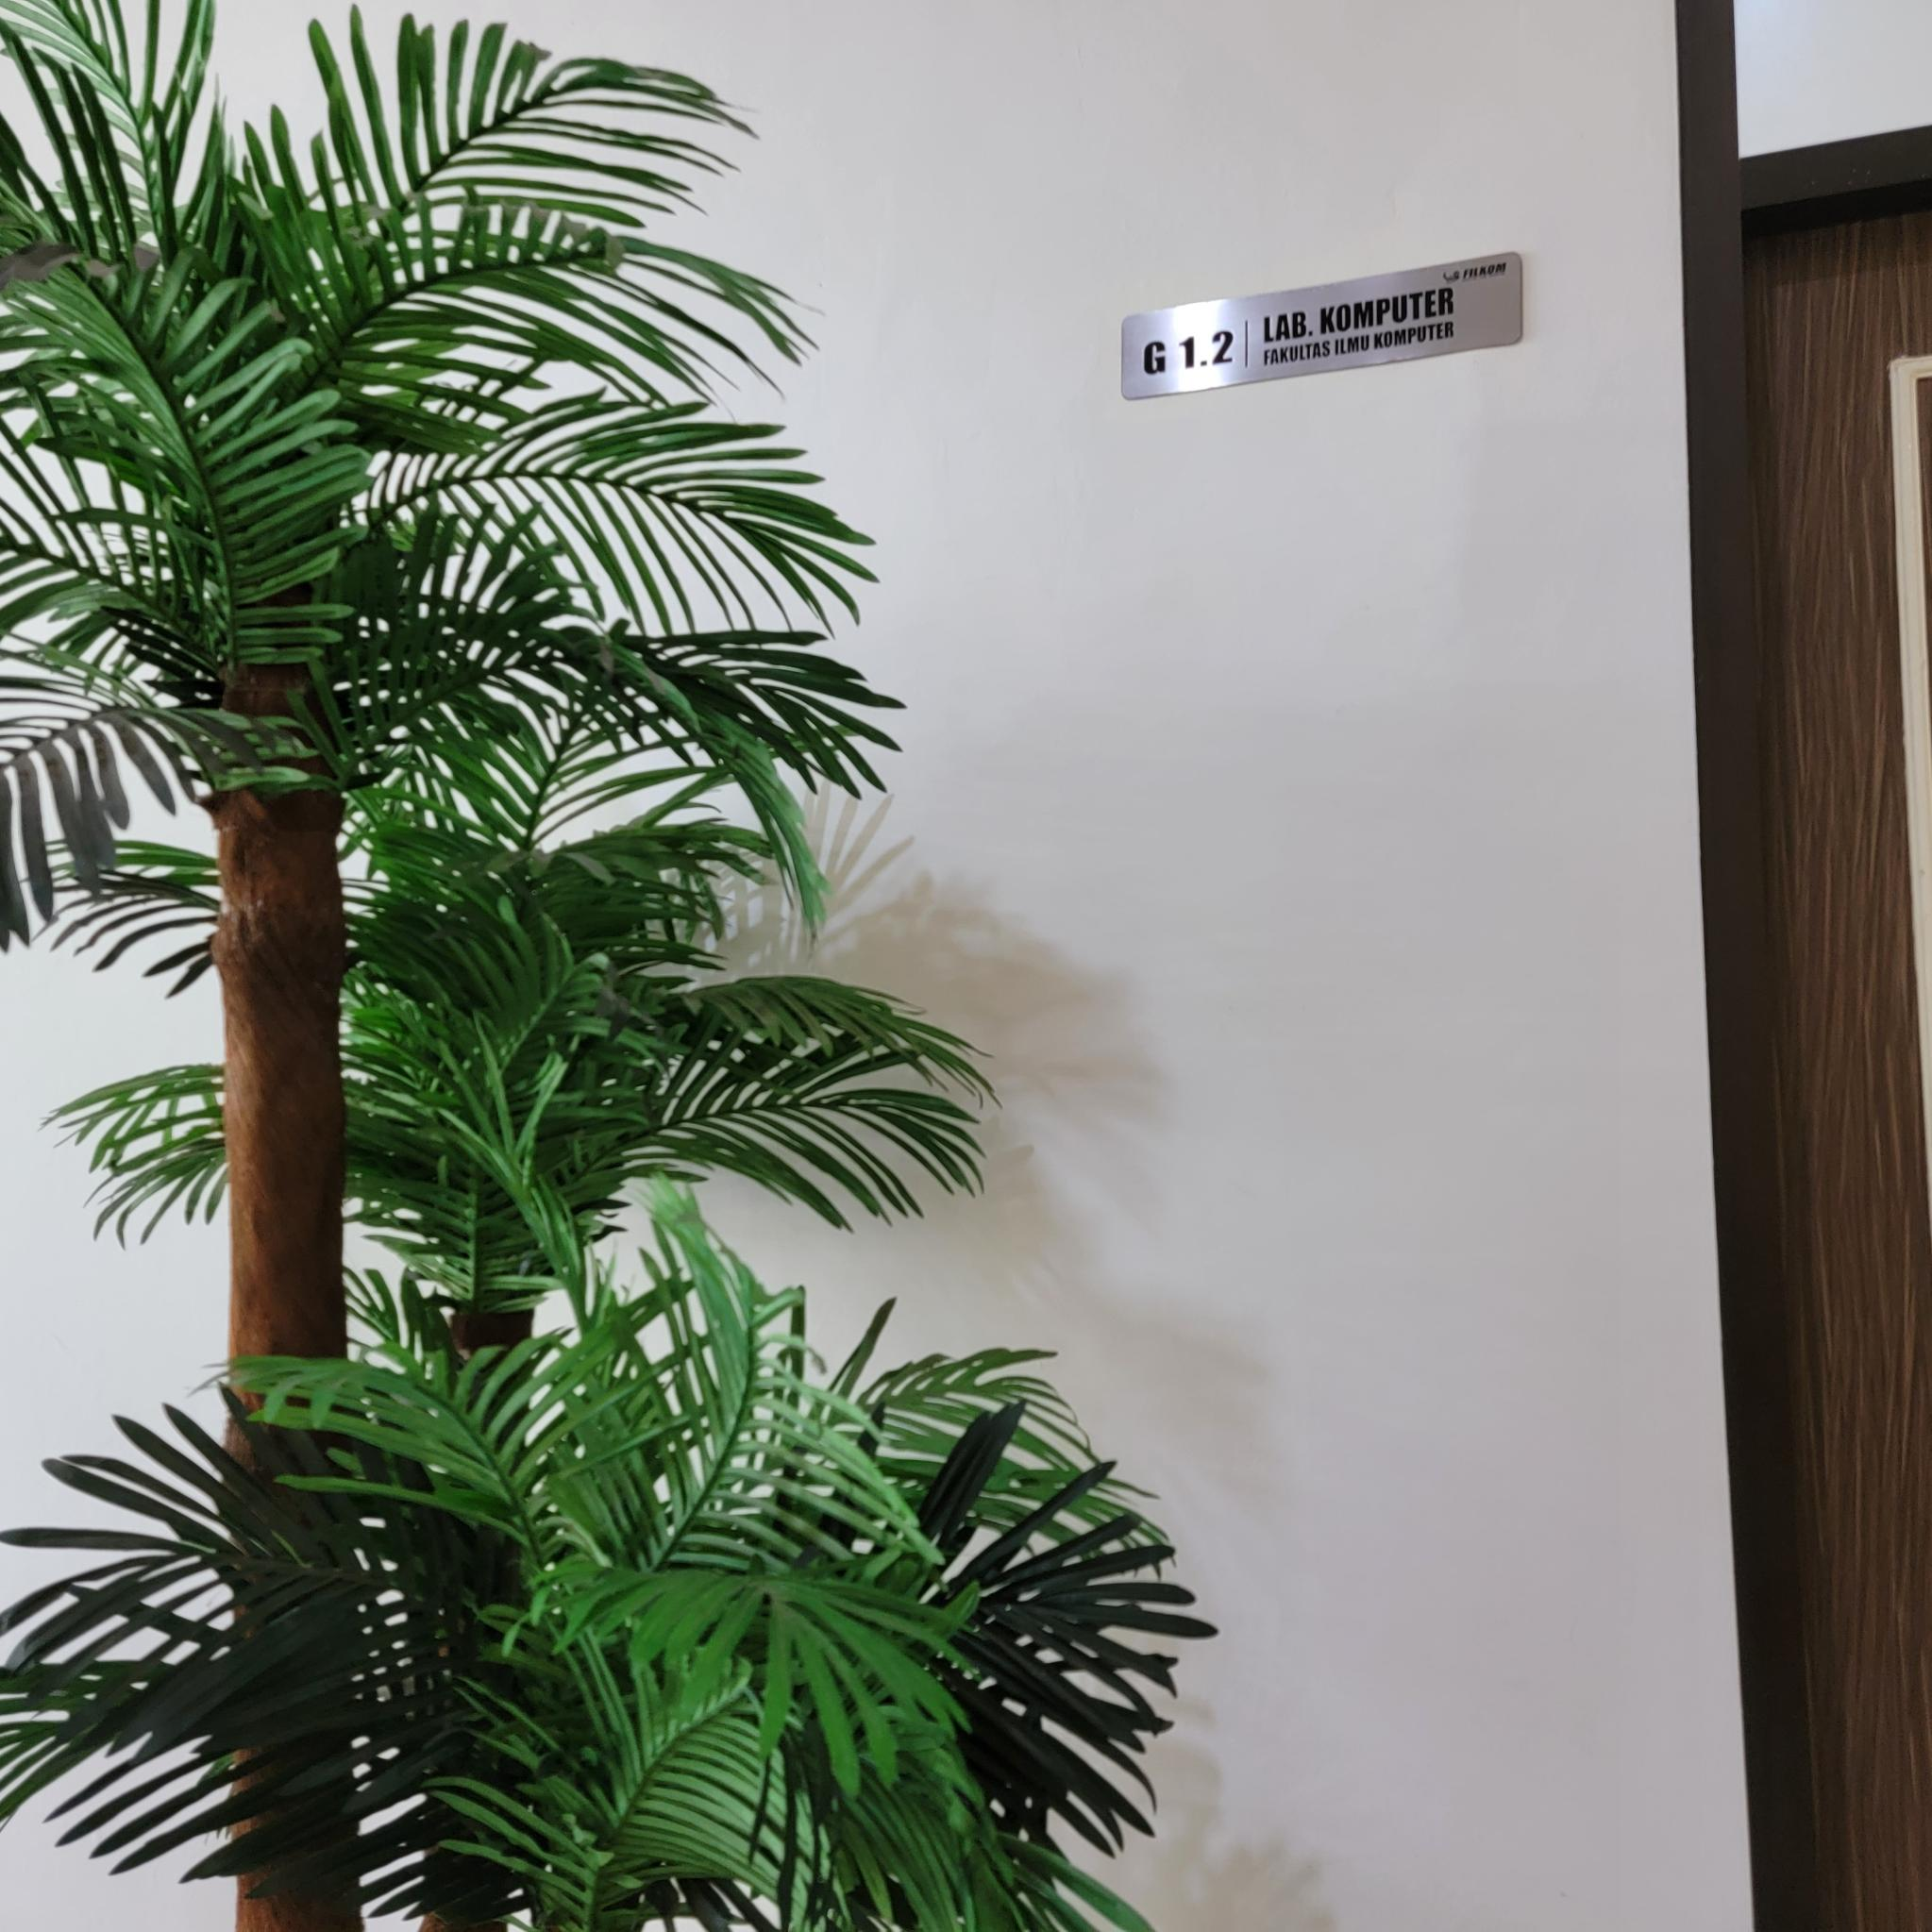plate: (1118, 248, 1525, 403)
